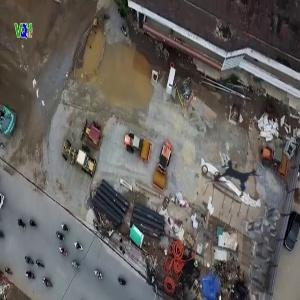drone: (190, 133, 281, 224)
